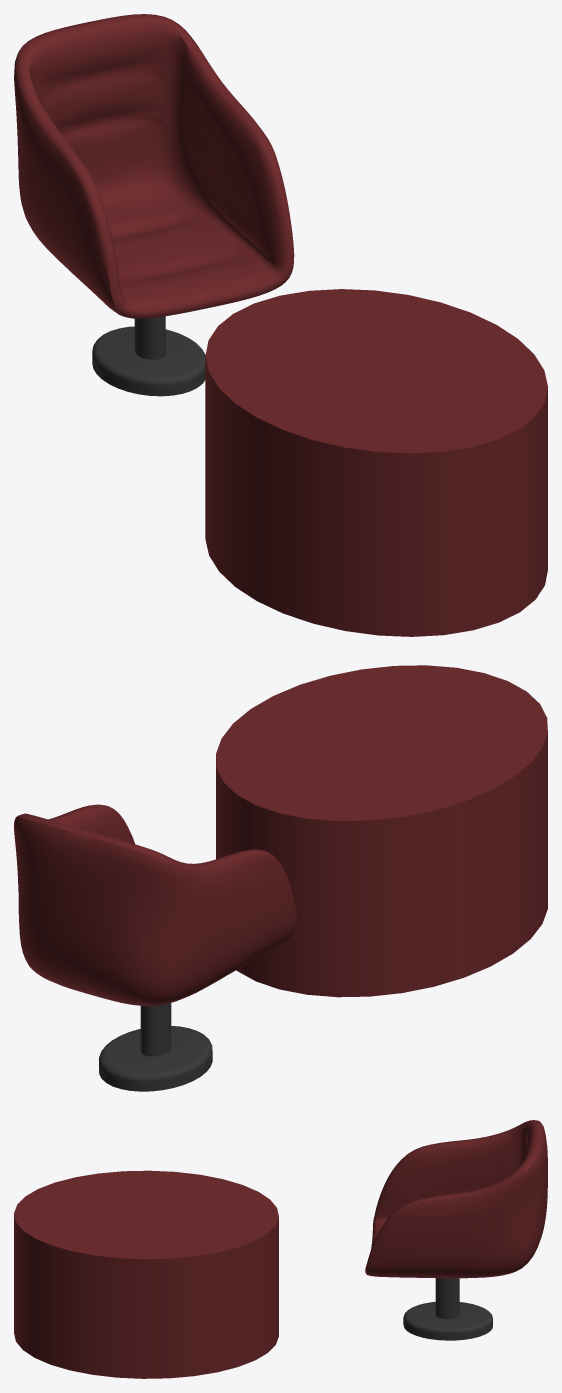
The model's file is lib_understudy.fbx.
3 views of the same model, one above another, from view 1: azimuth 30°, elevation 25°; view 2: azimuth 150°, elevation 25°; view 3: azimuth 270°, elevation 25° (orthographic). The views are drawn at different scales.
Parts seen in each view (by area): view 1: CircleTable2, SwivelChair2; view 2: CircleTable2, SwivelChair2; view 3: CircleTable2, SwivelChair2.
Part boxes in pixels (box(x1,y1,x2,y2)): CircleTable2: box(205, 289, 547, 636); SwivelChair2: box(14, 14, 294, 396); CircleTable2: box(216, 665, 547, 997); SwivelChair2: box(14, 804, 296, 1091); CircleTable2: box(14, 1170, 278, 1378); SwivelChair2: box(365, 1120, 547, 1340).
Size of the model in its own units: 236 by 250 by 602.
